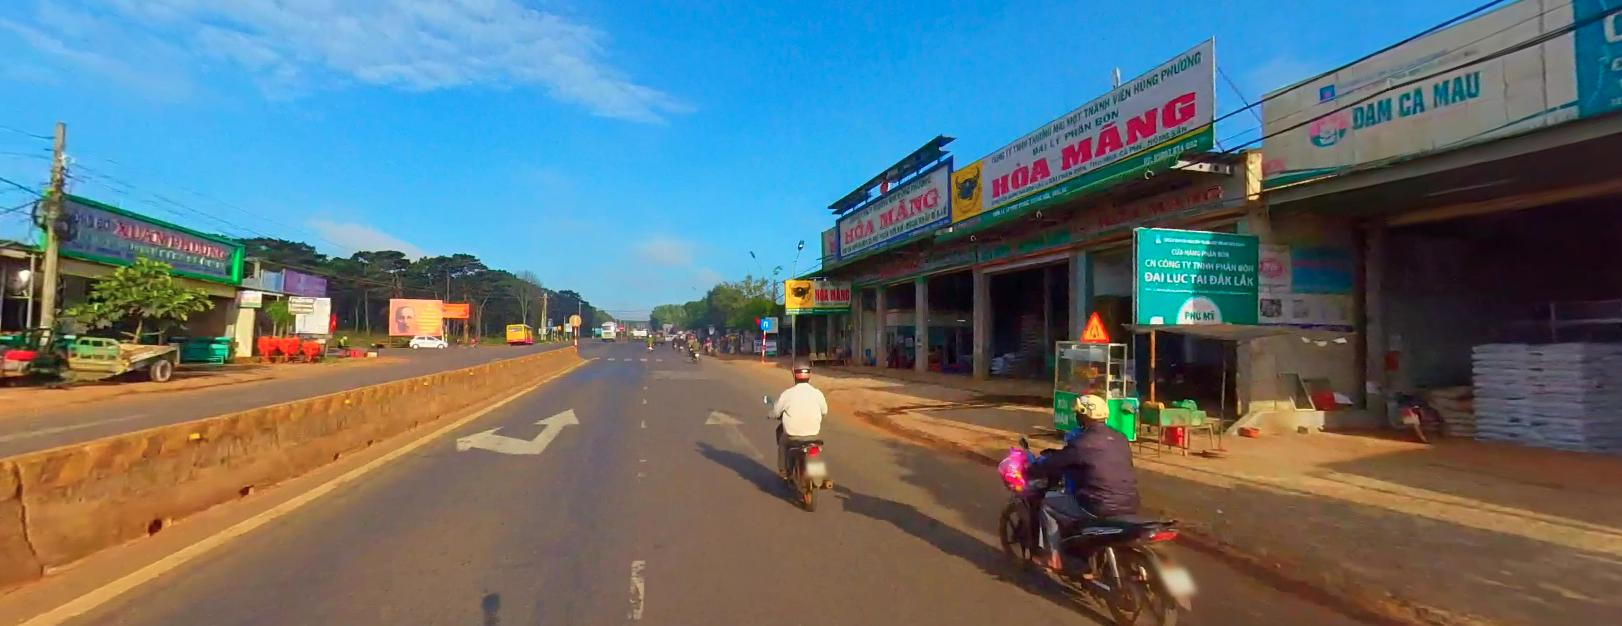Cam nguoc chieu: (618, 323, 624, 328)
Nguy hiem: (1080, 311, 1108, 341)
